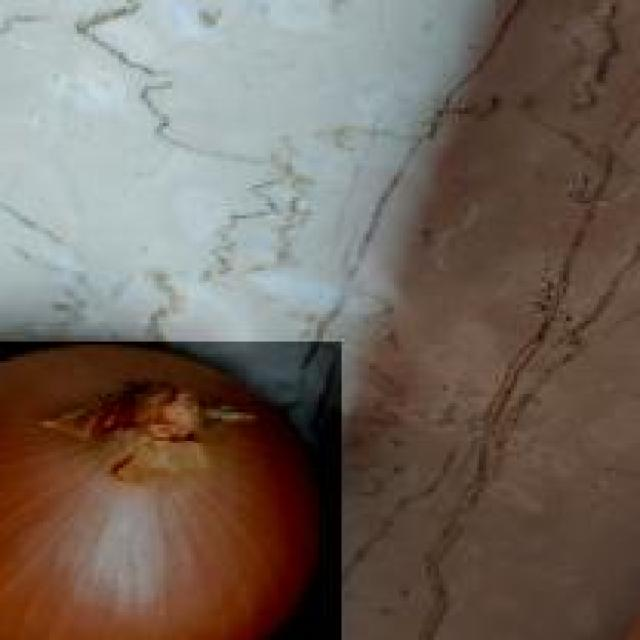onion: (0, 338, 345, 640)
